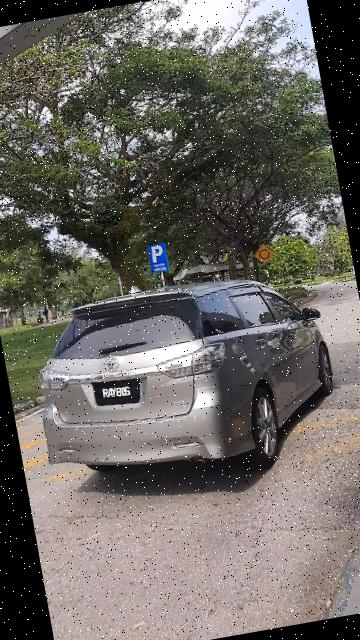License_Plate: (90, 374, 146, 413)
car: (21, 253, 358, 509)
